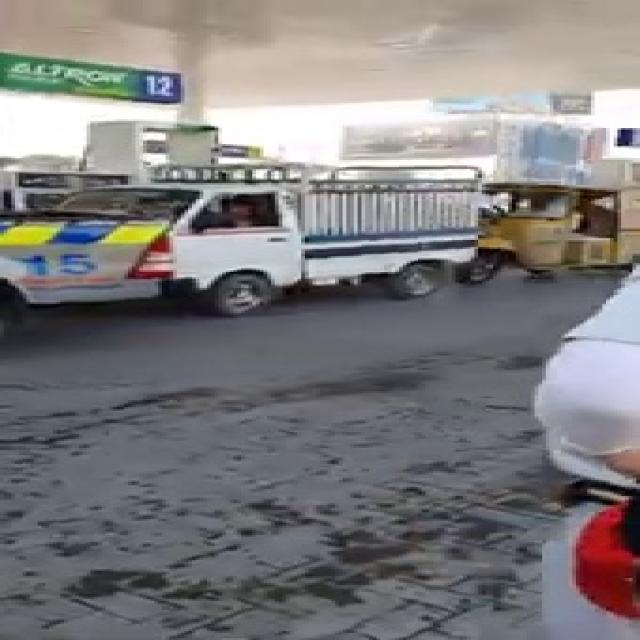police: (0, 201, 192, 323)
